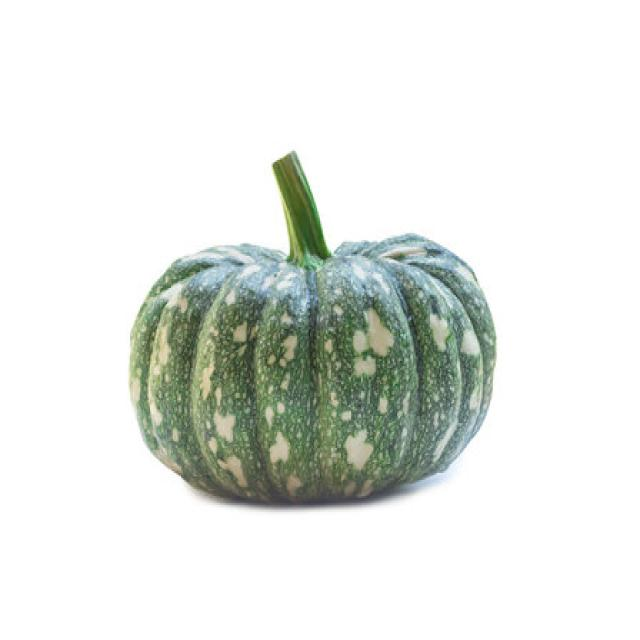Pumpkin: (127, 147, 497, 505)
